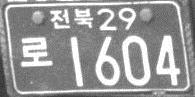0: (121, 34, 151, 86)
1: (68, 34, 84, 87)
2: (97, 7, 117, 32)
4: (155, 33, 181, 87)
6: (94, 35, 120, 86)
9: (118, 6, 137, 30)
로: (19, 34, 53, 69)
전북_O: (48, 7, 94, 30)
